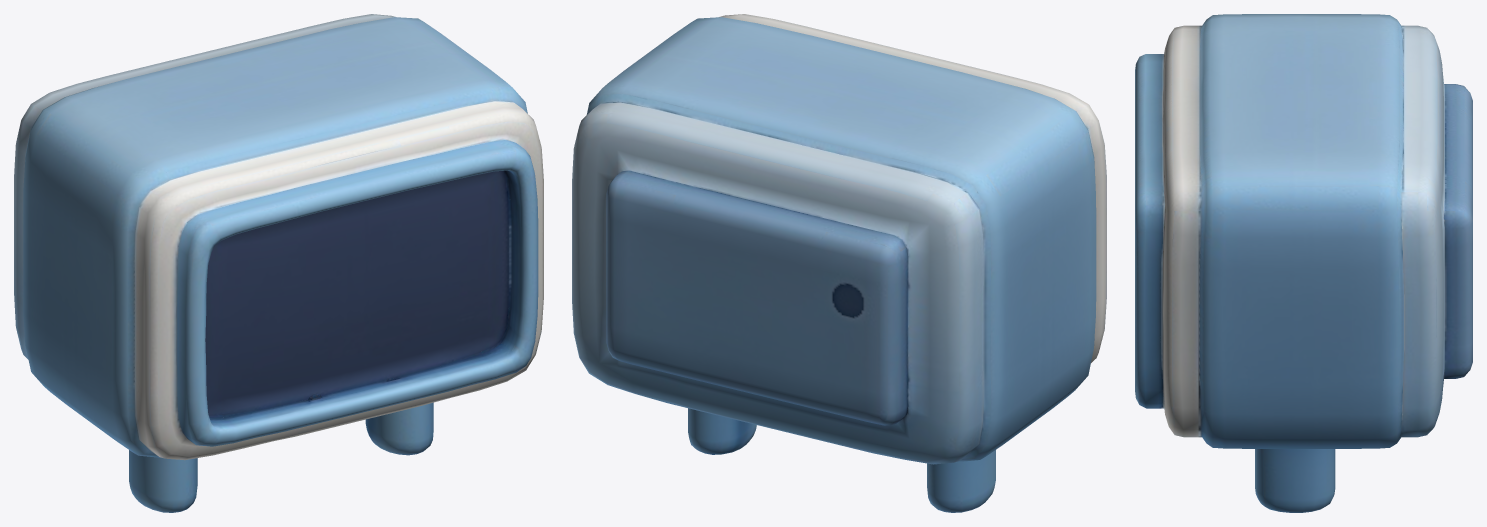
File: scoreboard.glb
3 renders of one model, left to right at view 1: azimuth 30°, elevation 25°; view 2: azimuth 150°, elevation 25°; view 3: azimuth 270°, elevation 25°, orthographic. The views are drawn at different scales.
Parts seen in each view (by area): view 1: tripo_node_37f08df8-bc8a-49e4-aa5d-c9bee50e0fdd; view 2: tripo_node_37f08df8-bc8a-49e4-aa5d-c9bee50e0fdd; view 3: tripo_node_37f08df8-bc8a-49e4-aa5d-c9bee50e0fdd.
Boxes of the visible parts, x1,y1,x2,y2 form: tripo_node_37f08df8-bc8a-49e4-aa5d-c9bee50e0fdd: [14, 14, 543, 512]; tripo_node_37f08df8-bc8a-49e4-aa5d-c9bee50e0fdd: [572, 14, 1106, 512]; tripo_node_37f08df8-bc8a-49e4-aa5d-c9bee50e0fdd: [1135, 14, 1472, 512].
Bounding box in the file's own units: 0.998 × 0.8809 × 0.748.
1 material, 1 textured.
